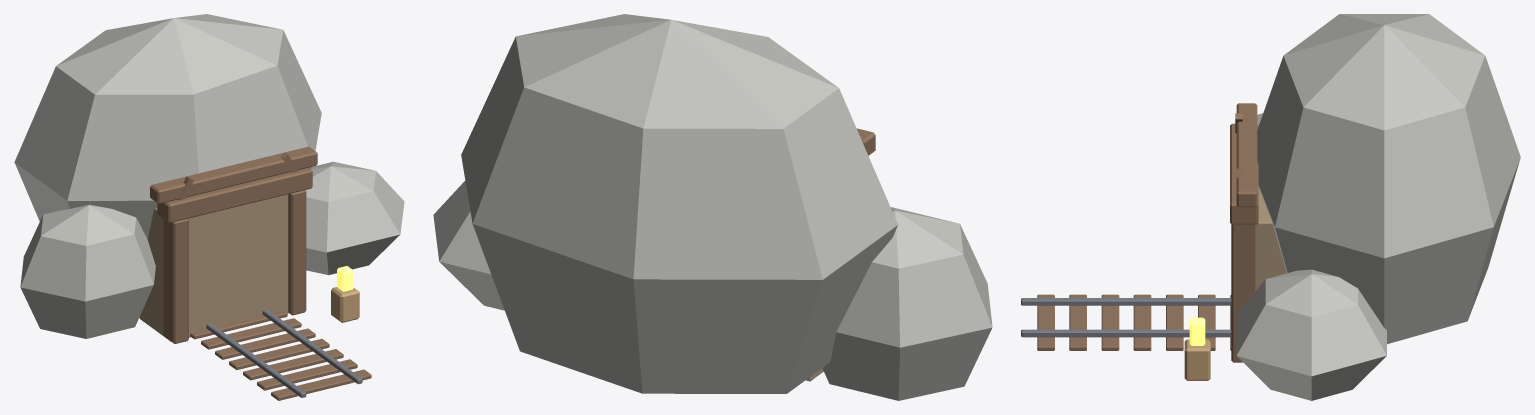
The model's file is mine_entrance.glb.
3 views of the same model, side by side, from view 1: azimuth 30°, elevation 25°; view 2: azimuth 150°, elevation 25°; view 3: azimuth 270°, elevation 25° (orthographic). The views are drawn at different scales.
Visible parts, largest first — view 1: mine-entrance; view 2: mine-entrance; view 3: mine-entrance.
Boxes of the visible parts, x1,y1,x2,y2 form: mine-entrance: (14,14,404,400); mine-entrance: (433,14,992,400); mine-entrance: (1021,14,1520,400).
Size of the model in its own units: 9.93 by 6.4 by 9.63.
